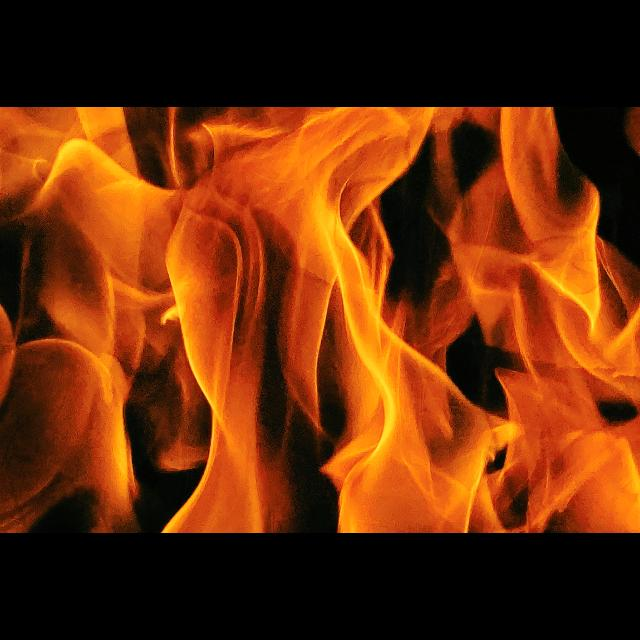fire: (0, 107, 640, 533)
